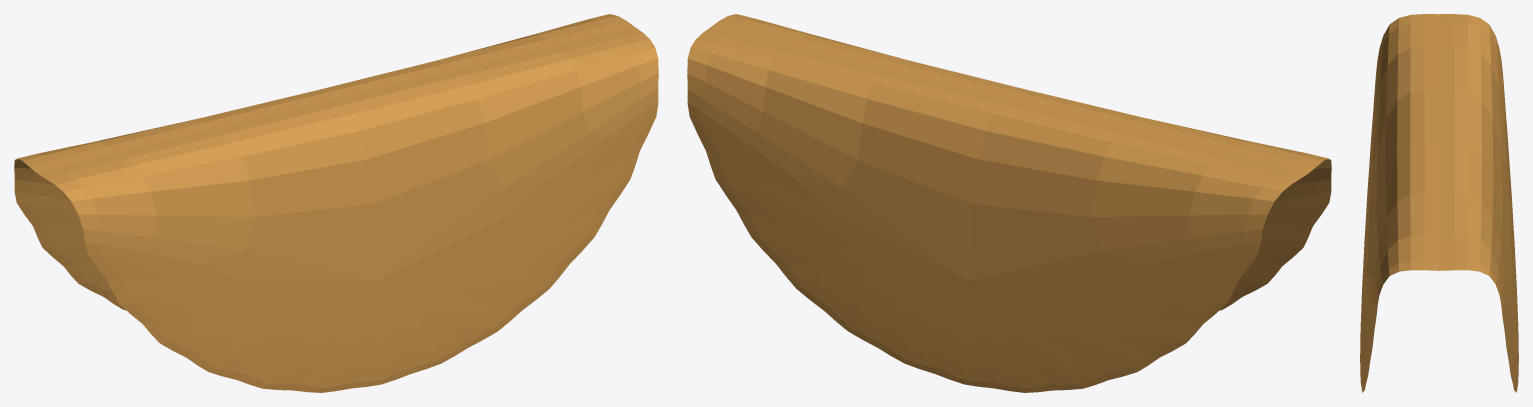
File: tacoshell.fbx
The picture shows the model from 3 angles, left to right: view 1: azimuth 30°, elevation 25°; view 2: azimuth 150°, elevation 25°; view 3: azimuth 270°, elevation 25°; orthographic projection. The views are drawn at different scales.
Visible parts, largest first — view 1: Circle; view 2: Circle; view 3: Circle.
Part boxes in pixels (left/top/right/bottom): Circle: left=14, top=14, right=658, bottom=392; Circle: left=687, top=14, right=1331, bottom=392; Circle: left=1360, top=14, right=1518, bottom=392.
Bounding box in the file's own units: 186 × 75.34 × 48.74.
